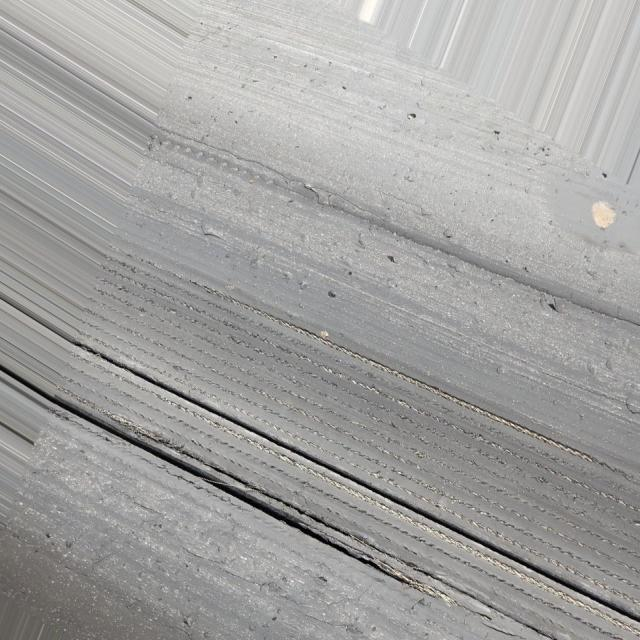Tear: (71, 333, 638, 621), (241, 135, 638, 329), (62, 394, 436, 595)
Wear: (93, 240, 636, 597)
